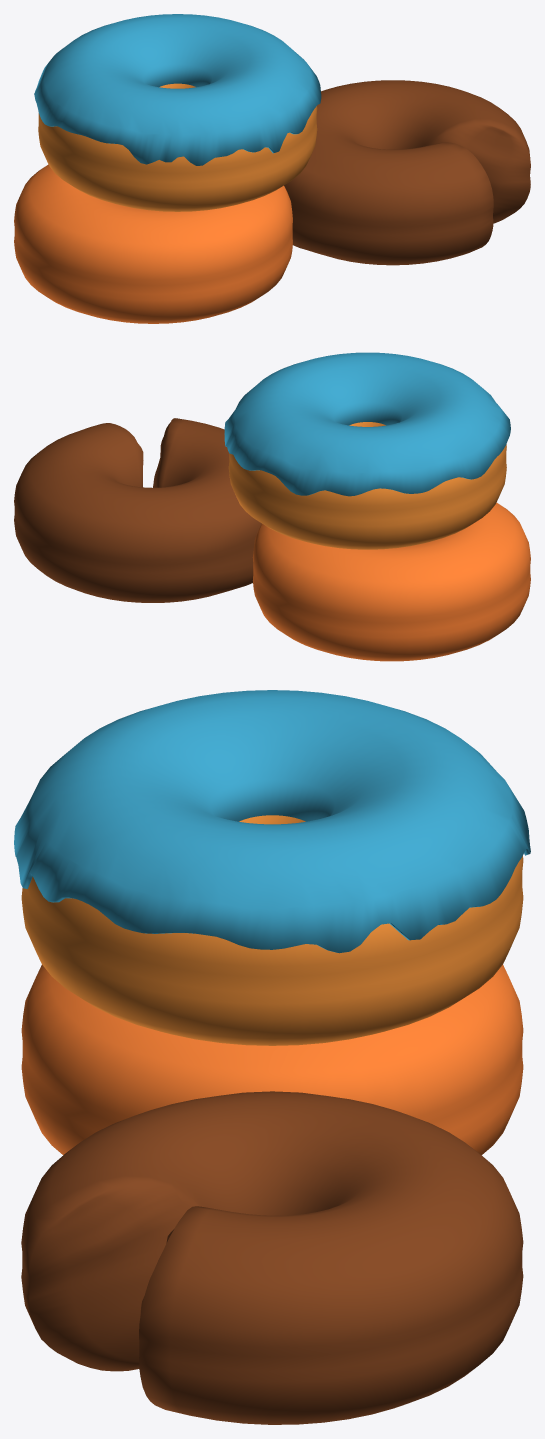
File: day_old_donuts.fbx
3 views of the same model, one above another, from view 1: azimuth 30°, elevation 25°; view 2: azimuth 150°, elevation 25°; view 3: azimuth 270°, elevation 25° (orthographic). The views are drawn at different scales.
Visible parts, largest first — view 1: day-old donuts.001; view 2: day-old donuts.001; view 3: day-old donuts.001.
Boxes of the visible parts, left/top/right/bottom form: day-old donuts.001: left=14, top=14, right=530, bottom=323; day-old donuts.001: left=14, top=352, right=530, bottom=661; day-old donuts.001: left=14, top=690, right=530, bottom=1424.
Bounding box in the file's own units: 250 × 110 × 130.
